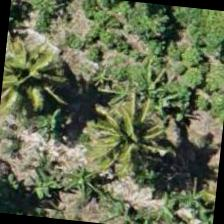Kelapa_Sawit: (76, 90, 174, 189), (0, 29, 78, 127)
